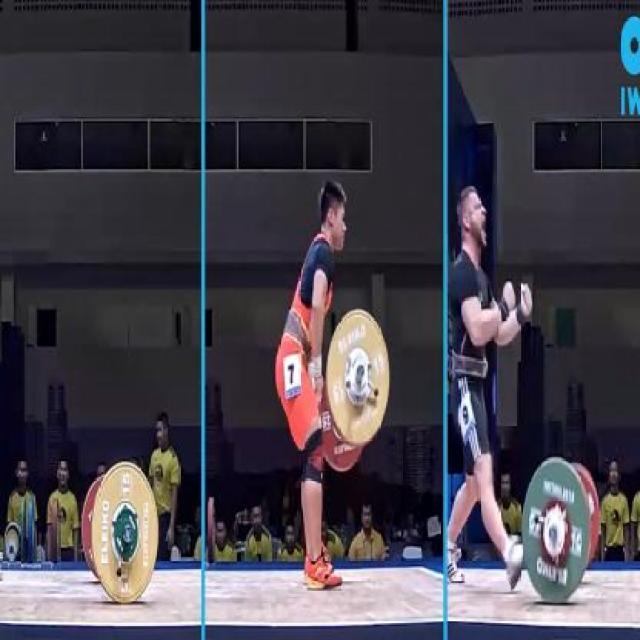Barbell: (114, 507, 150, 556), (543, 512, 568, 560), (348, 346, 370, 399)
